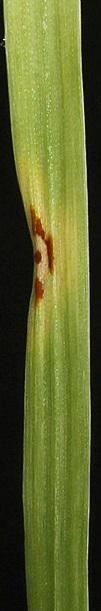Wheat: (28, 207, 57, 303)
